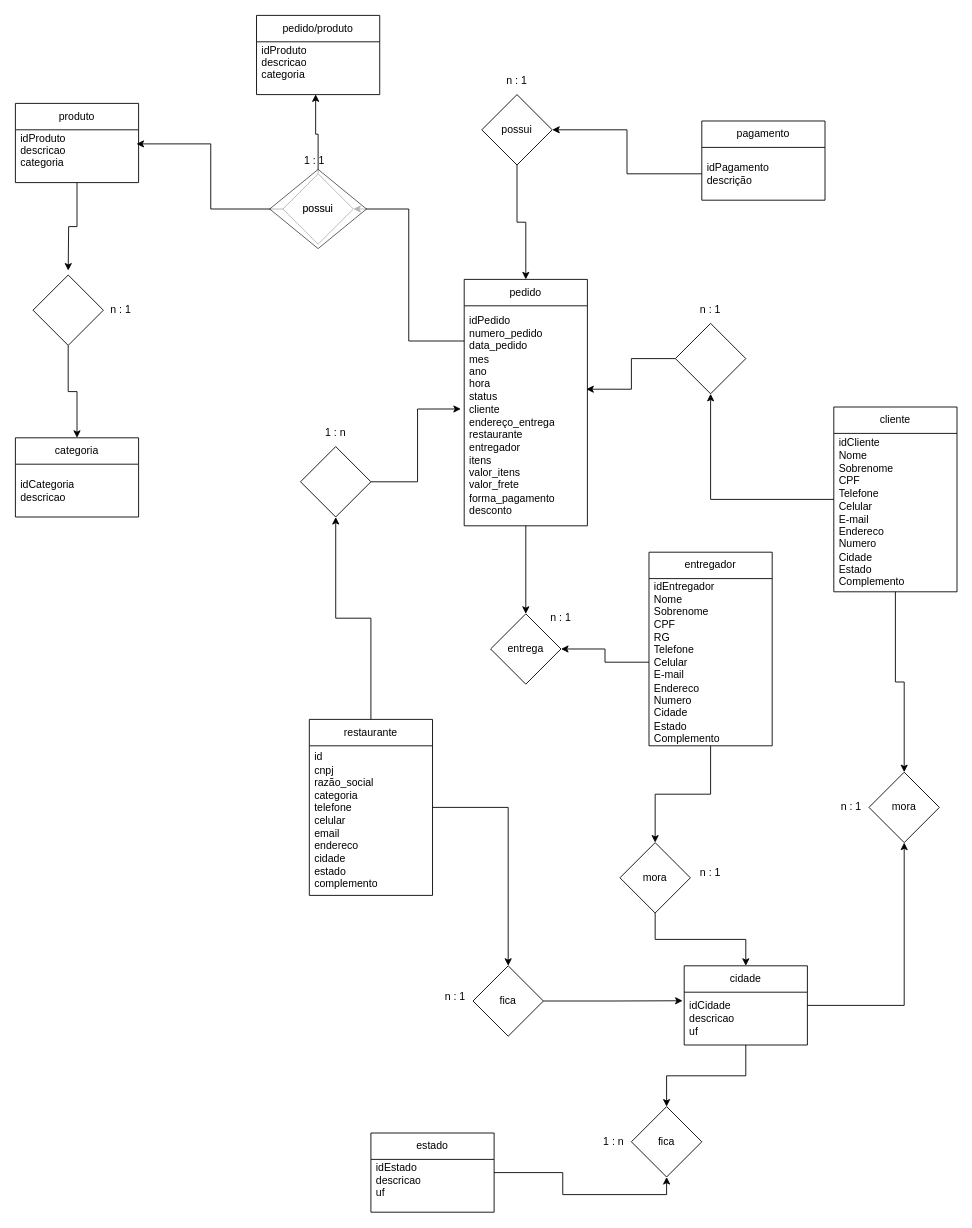
The diagram is 972 pixels wide and 1228 high, and some of its shapes have lost their labels. The centre of each missing label's shape, as x and y in pixels:
pertence: the point at 67,309
realiza: the point at 710,358
recebe: the point at 335,481
